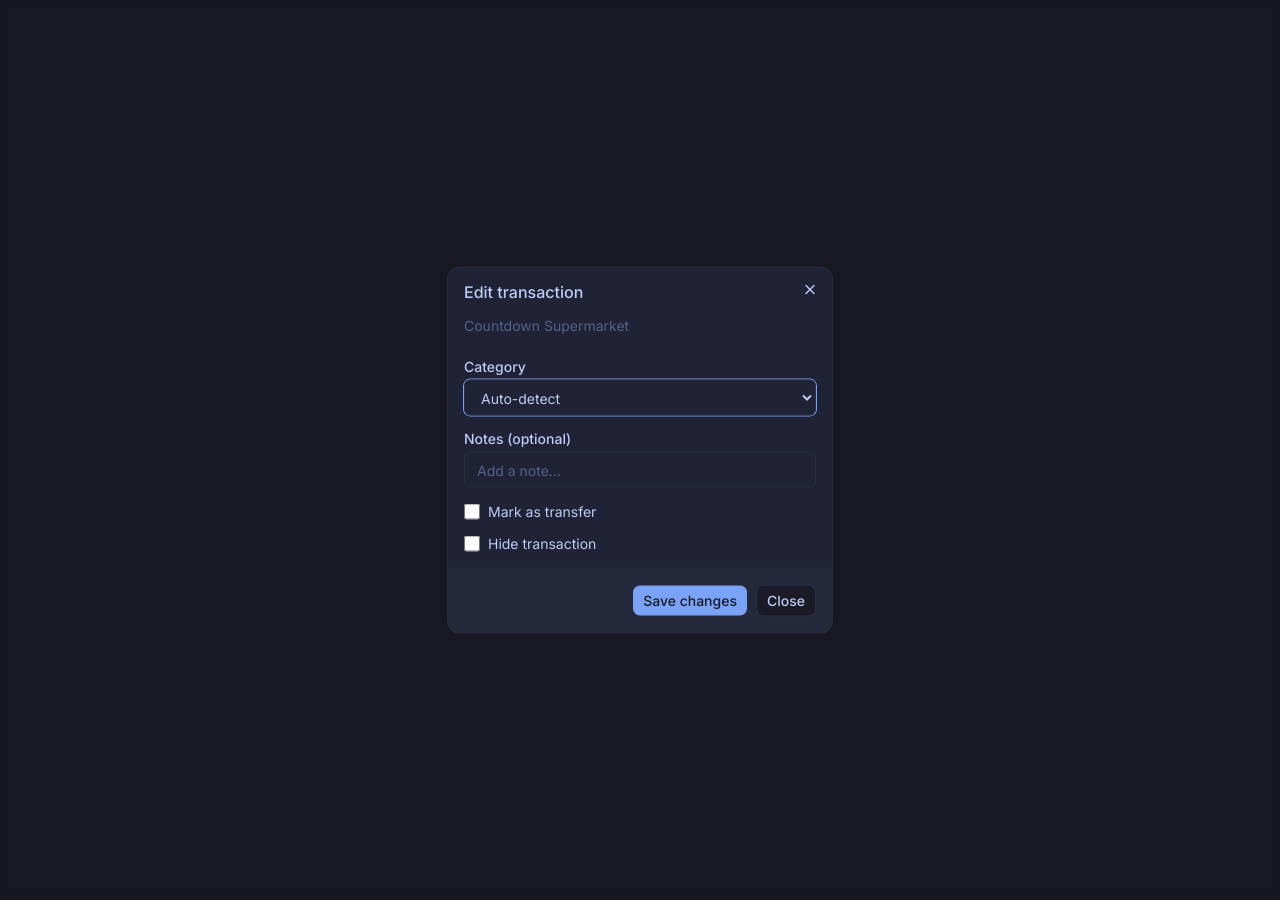
TransactionEditDialog › shows a network error message when fetch throws
Click the button "Save changes": point(690, 600) [632,584,748,616]
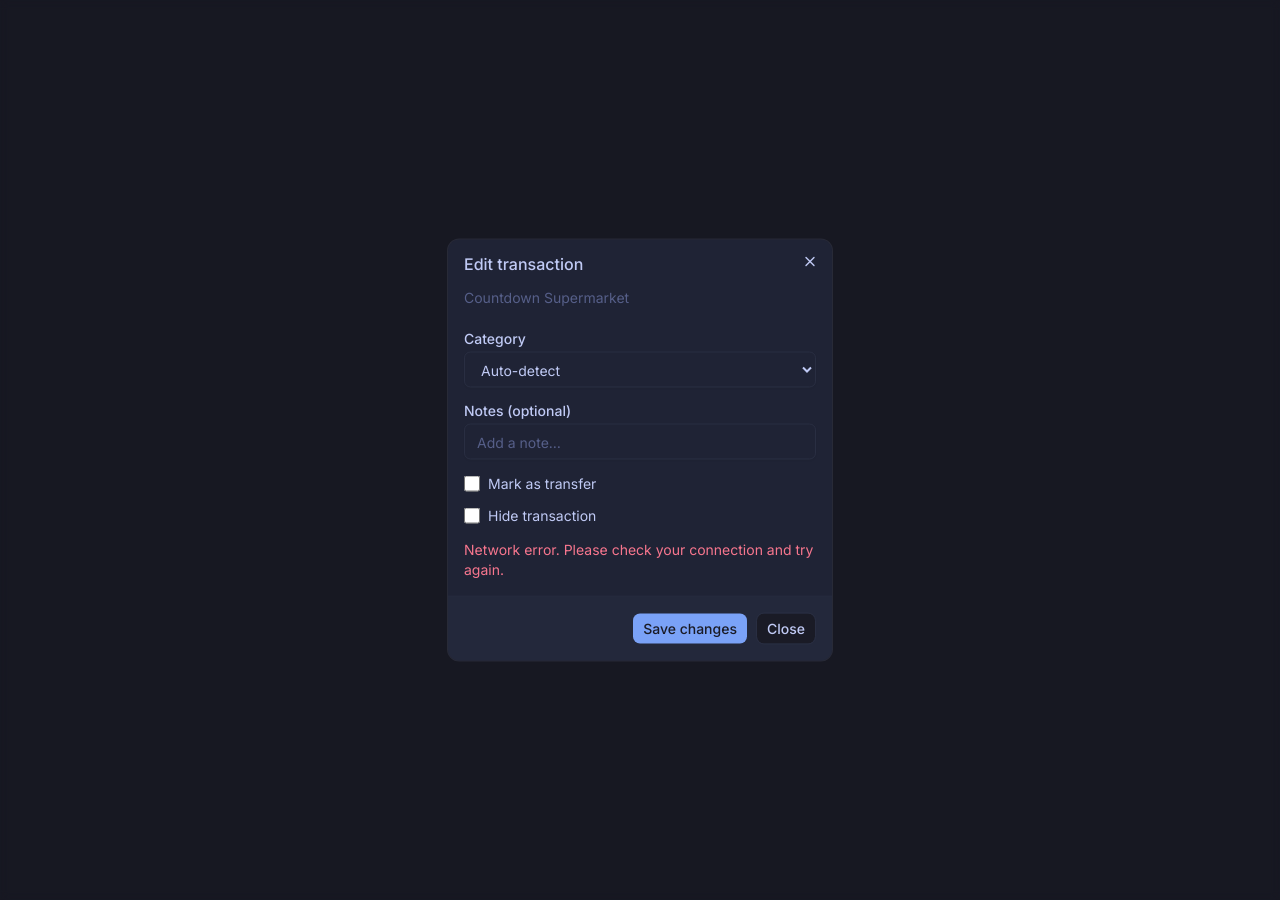
Expected: the text "Network error. Please check your connection and try again." is shown, [464,540,816,580]
